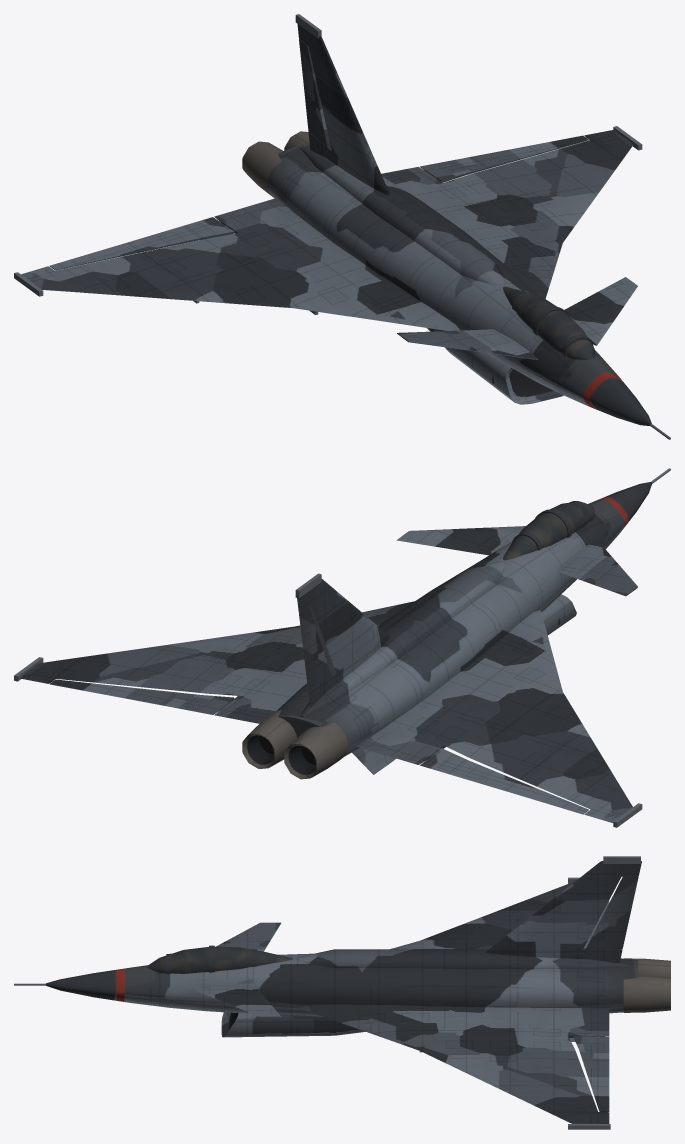
Rendered from vanta.fbx.
3 renders of one model, top to bottom at view 1: azimuth 30°, elevation 25°; view 2: azimuth 150°, elevation 25°; view 3: azimuth 270°, elevation 25°, orthographic. The views are drawn at different scales.
Parts seen in each view (by area): view 1: Body, Aileron_L, Elevator_R, Elevator_L, Aileron_R, Rudder; view 2: Body, Aileron_L, Elevator_R, Aileron_R, Elevator_L, Rudder; view 3: Body, Rudder, Aileron_R, Elevator_R, Elevator_L.
Part boxes in pixels (<box>): Body: <box>14,14,670,439</box>; Aileron_L: <box>50,217,234,270</box>; Elevator_R: <box>564,277,637,345</box>; Elevator_L: <box>397,329,538,359</box>; Aileron_R: <box>420,135,588,182</box>; Rudder: <box>299,39,330,147</box>; Body: <box>14,468,670,827</box>; Aileron_L: <box>420,748,588,814</box>; Elevator_R: <box>396,526,525,555</box>; Aileron_R: <box>50,679,234,714</box>; Elevator_L: <box>557,540,637,596</box>; Rudder: <box>299,606,331,691</box>; Body: <box>14,856,670,1129</box>; Rudder: <box>585,876,638,949</box>; Aileron_R: <box>573,1036,609,1111</box>; Elevator_R: <box>186,985,280,1017</box>; Elevator_L: <box>216,922,281,951</box>.
Bounding box in the file's own units: 693 × 225 × 777.
1 material, 1 textured.
